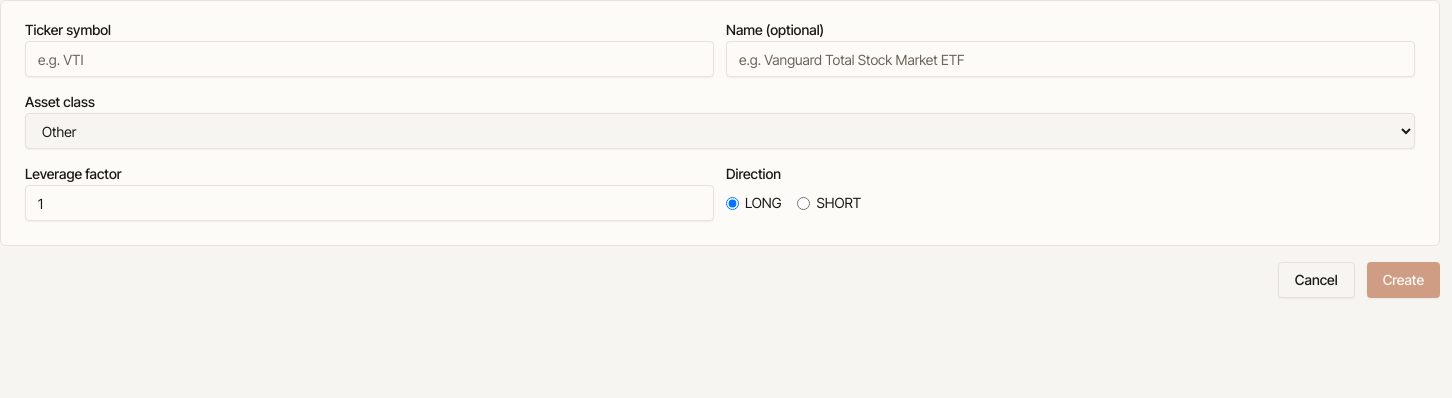
Test: TickerForm (extracted, W14) › an empty ticker submit shows the form-error summary (role=alert)
// Dirty the form so the submit button enables, but leave ticker empty.
Type "No symbol yet" into the field labelled "Name (optional)" at {"x": 1070, "y": 59}, box [726,41,1415,77]
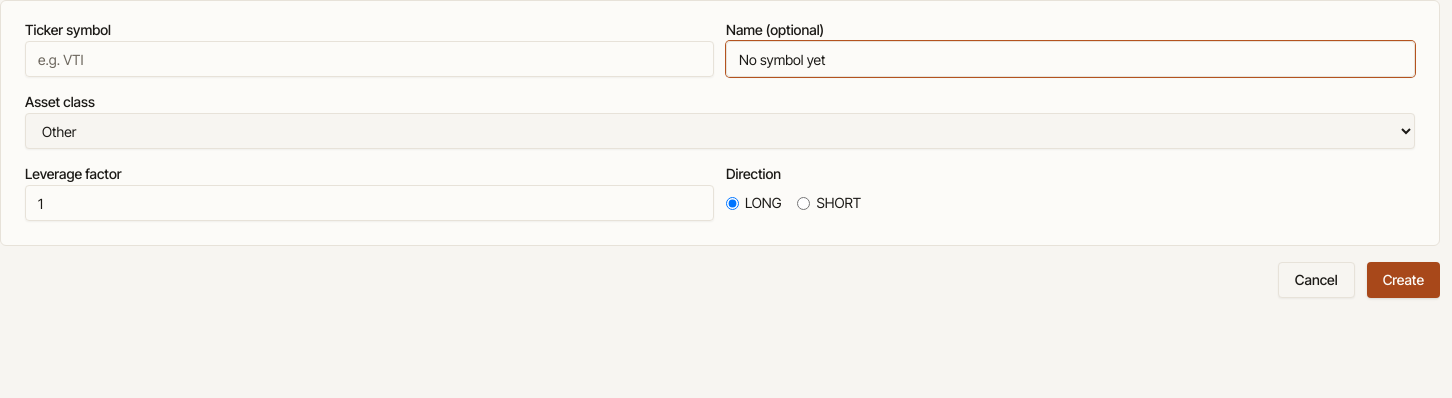
Click the button "Create" at {"x": 1403, "y": 280}, box [1367,262,1440,298]
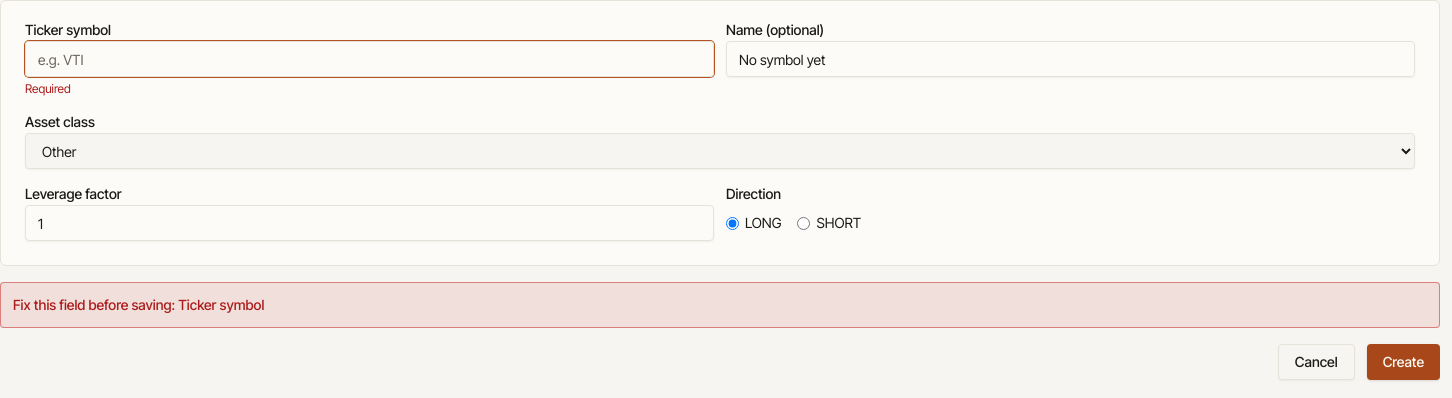
Result: the message shows "Ticker" at [178,296,264,313]
